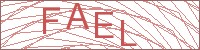A: (64, 1, 91, 31)
E: (93, 10, 116, 40)
F: (41, 6, 62, 35)
L: (118, 19, 141, 49)
